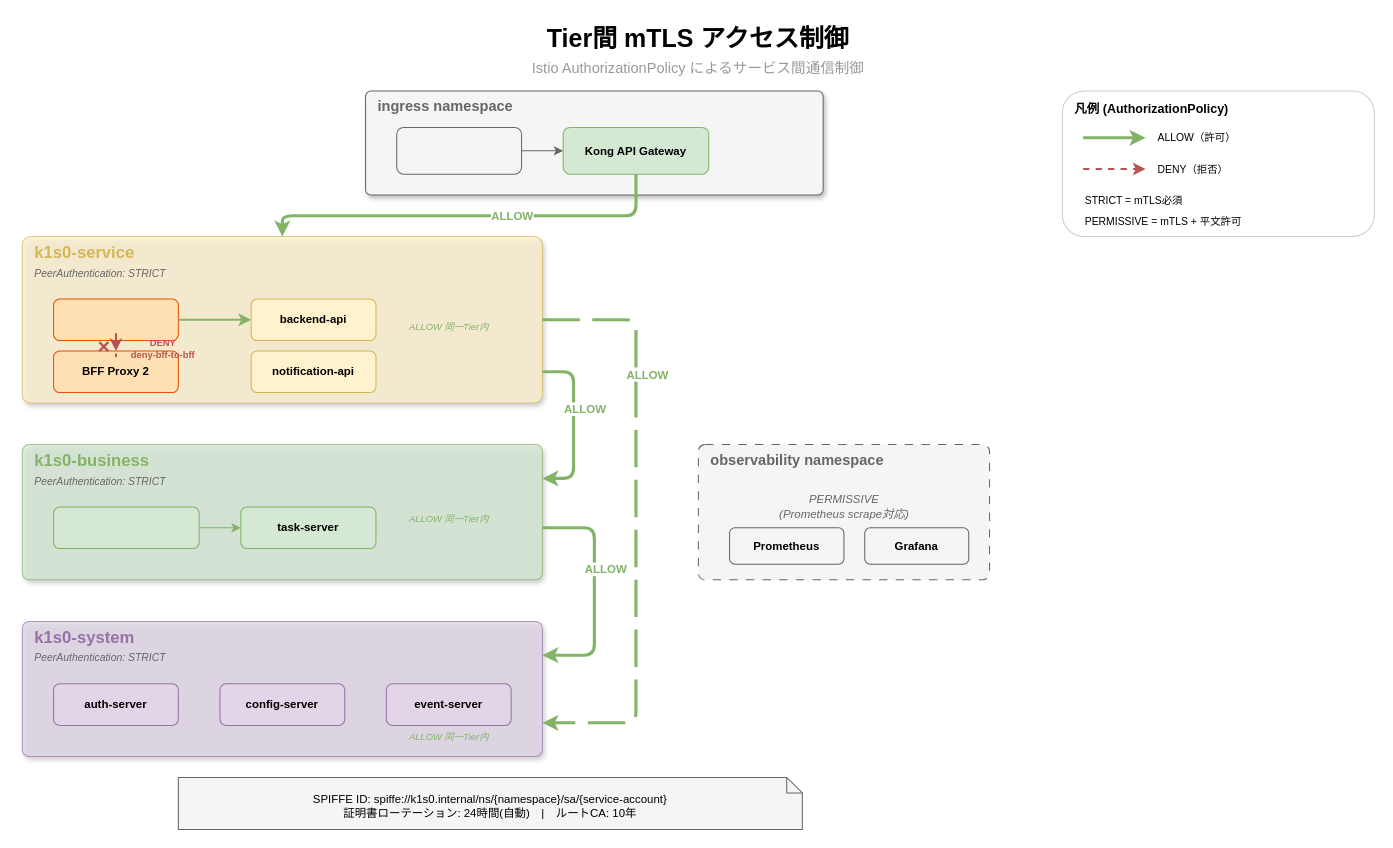
This 1393x848 diagram has some shape labels left out. Each missing label, with the centre of its shape:
BFF Proxy: (x=115, y=319)
Nginx Ingress: (x=459, y=150)
taskmanagement-server: (x=126, y=527)
